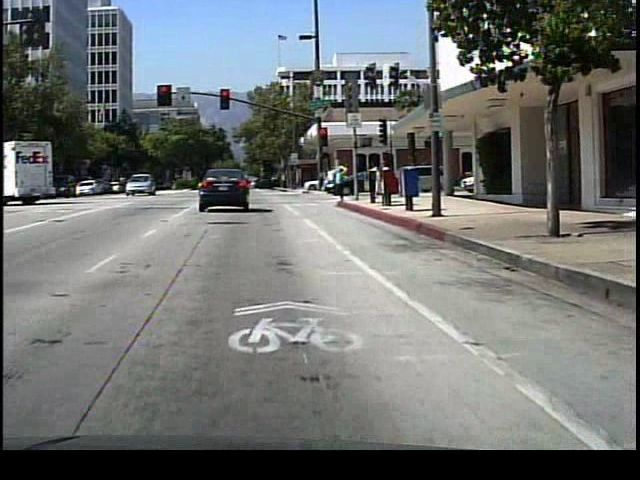person: (329, 152, 352, 206), (378, 156, 396, 198), (363, 158, 380, 197)
